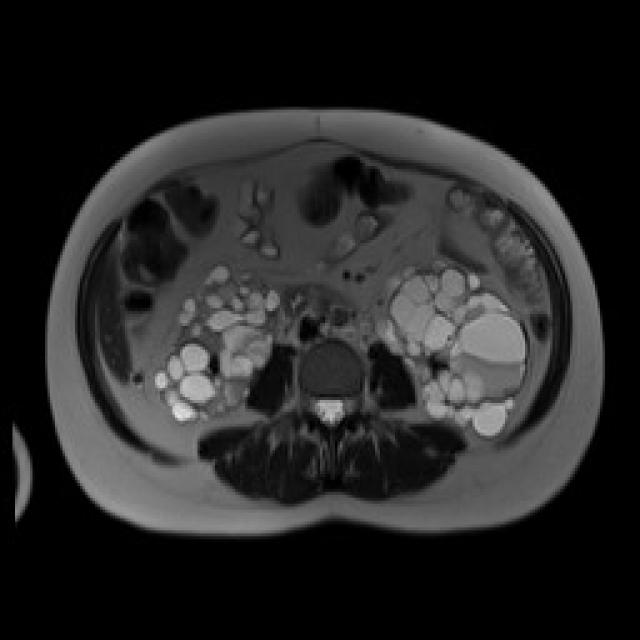sag: (151, 261, 282, 428)
sol: (376, 256, 529, 437)
